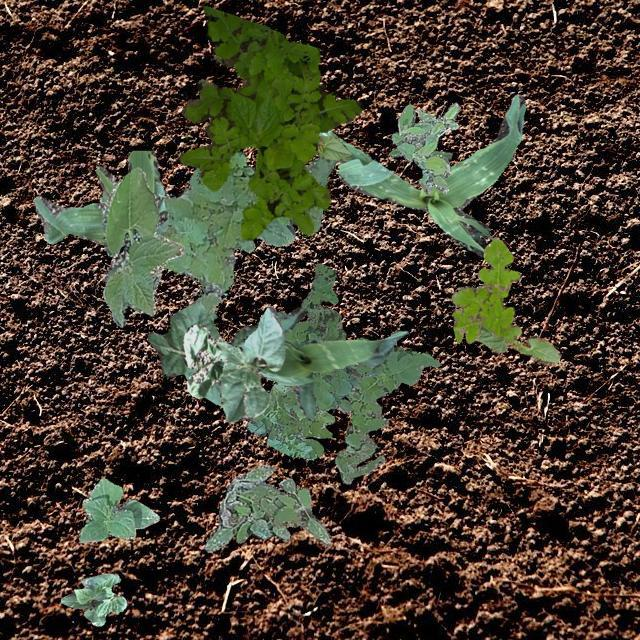crop: (318, 94, 524, 255), (230, 304, 406, 419), (32, 150, 166, 280), (102, 167, 185, 326), (214, 306, 284, 422), (146, 300, 222, 406), (78, 476, 158, 542), (60, 572, 126, 624), (476, 325, 560, 365), (182, 322, 225, 398), (314, 134, 350, 160)
weed: (178, 4, 362, 240), (98, 150, 336, 320), (245, 262, 382, 458), (334, 346, 438, 484), (450, 235, 520, 342), (204, 464, 288, 550), (386, 102, 458, 194), (256, 478, 328, 544), (430, 150, 450, 160)
